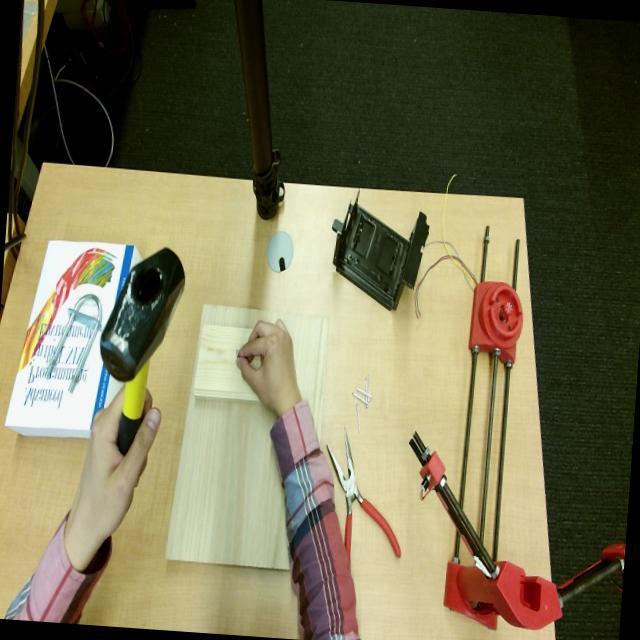hammer: (100, 248, 184, 455)
pliers: (326, 431, 400, 560)
